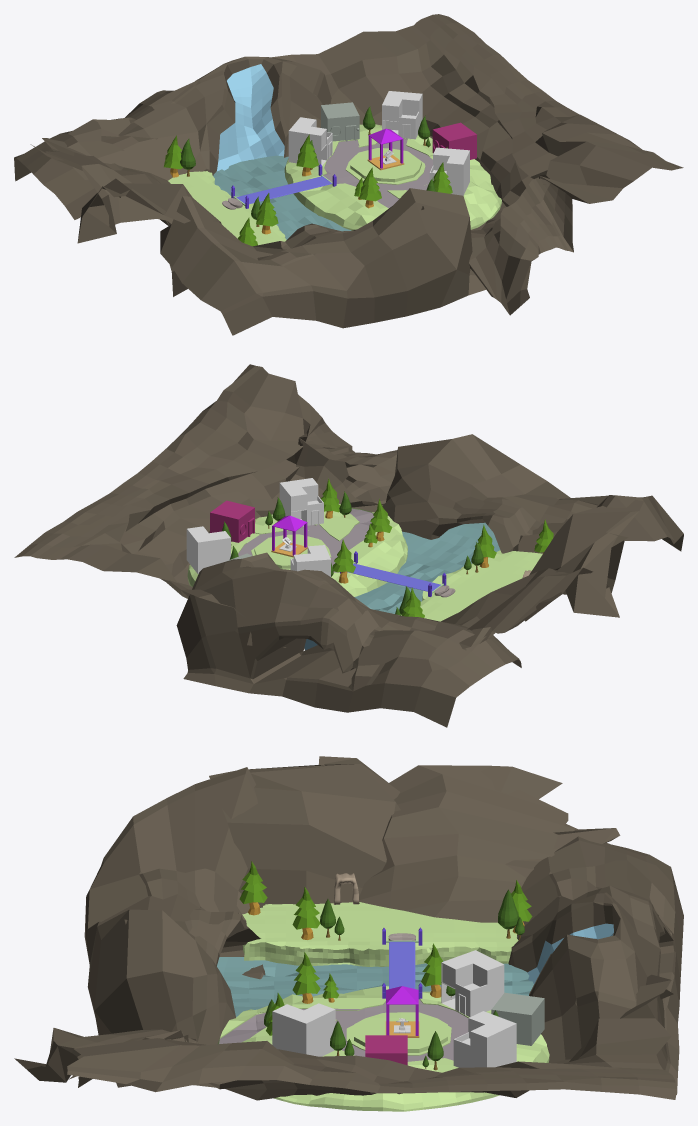
File: CENA3 CIDADE16-02.fbx
3 views of the same model, one above another, from view 1: azimuth 30°, elevation 25°; view 2: azimuth 150°, elevation 25°; view 3: azimuth 270°, elevation 25° (orthographic). The views are drawn at different scales.
Parts seen in each view (by area): view 1: Plane.026, Plane.024, Plane.025, Plane.002, Plane.027, Plane.023, Plane.028, Plane.012, Plane.015, Plane.011, Plane.014, Plane.013 (+4 smaller); view 2: Plane.025, Plane.026, Plane.024, Plane.027, Plane.002, Plane.023, Plane.028, Plane.011, Plane.012, Plane.013, Plane.006, Plane.015 (+1 smaller); view 3: Plane.027, Plane.024, Plane.026, Plane.025, Plane.002, Plane.028, Plane.023, Plane.015, Plane.012, Plane.011, Plane.014, Plane.006 (+7 smaller).
Part boxes in pixels (left/top/right/bottom): Plane.026: left=271, top=14, right=683, bottom=315; Plane.024: left=160, top=188, right=485, bottom=335; Plane.025: left=14, top=56, right=331, bottom=219; Plane.002: left=284, top=124, right=501, bottom=230; Plane.027: left=30, top=138, right=221, bottom=243; Plane.023: left=213, top=155, right=351, bottom=239; Plane.028: left=168, top=171, right=286, bottom=245; Plane.012: left=382, top=91, right=422, bottom=139; Plane.015: left=288, top=117, right=332, bottom=166; Plane.011: left=429, top=147, right=469, bottom=195; Plane.014: left=321, top=102, right=359, bottom=141; Plane.013: left=432, top=122, right=476, bottom=159; Plane.025: left=176, top=552, right=521, bottom=727; Plane.026: left=14, top=364, right=397, bottom=647; Plane.024: left=382, top=434, right=683, bottom=594; Plane.027: left=441, top=499, right=643, bottom=650; Plane.002: left=187, top=504, right=407, bottom=596; Plane.023: left=354, top=522, right=500, bottom=613; Plane.028: left=401, top=550, right=542, bottom=621; Plane.011: left=279, top=478, right=323, bottom=526; Plane.012: left=186, top=526, right=230, bottom=573; Plane.013: left=210, top=500, right=255, bottom=542; Plane.006: left=347, top=563, right=440, bottom=591; Plane.015: left=290, top=545, right=330, bottom=576; Plane.027: left=209, top=756, right=620, bottom=922; Plane.024: left=84, top=767, right=265, bottom=1088; Plane.026: left=14, top=974, right=677, bottom=1100; Plane.025: left=508, top=836, right=683, bottom=1094; Plane.002: left=217, top=986, right=549, bottom=1111; Plane.028: left=242, top=902, right=518, bottom=966; Plane.023: left=217, top=957, right=533, bottom=1017; Plane.015: left=441, top=950, right=504, bottom=1016; Plane.012: left=453, top=1011, right=516, bottom=1067; Plane.011: left=272, top=1003, right=335, bottom=1056; Plane.014: left=491, top=992, right=544, bottom=1045; Plane.006: left=389, top=941, right=415, bottom=988.
Bounding box in the file's own units: 19230 × 5342 × 17676.
